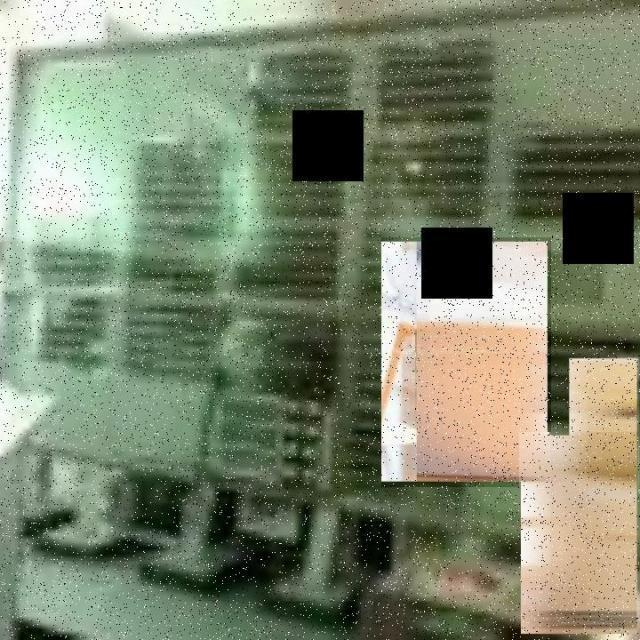box: (382, 237, 552, 487), (520, 432, 638, 638), (569, 358, 639, 490)
